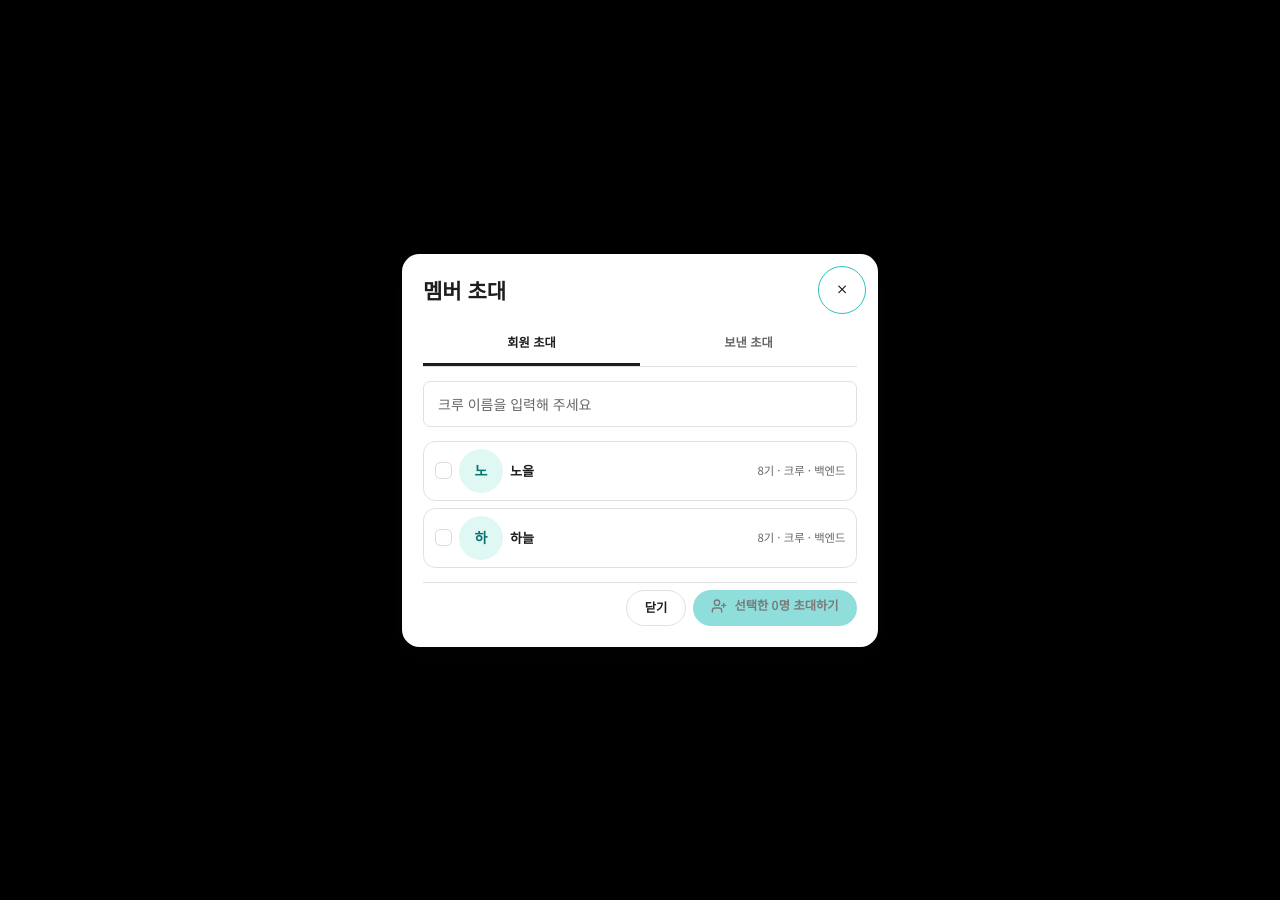
Scenario: 검색 버튼 없이 입력·Enter로 검색하고 선택한 회원을 유지한다
This screenshot has width=1280, height=900.
Step 1. Click the checkbox labelled "노 노을 8기 · 크루 · 백엔드" → (481, 470), box [434,448,846,492]
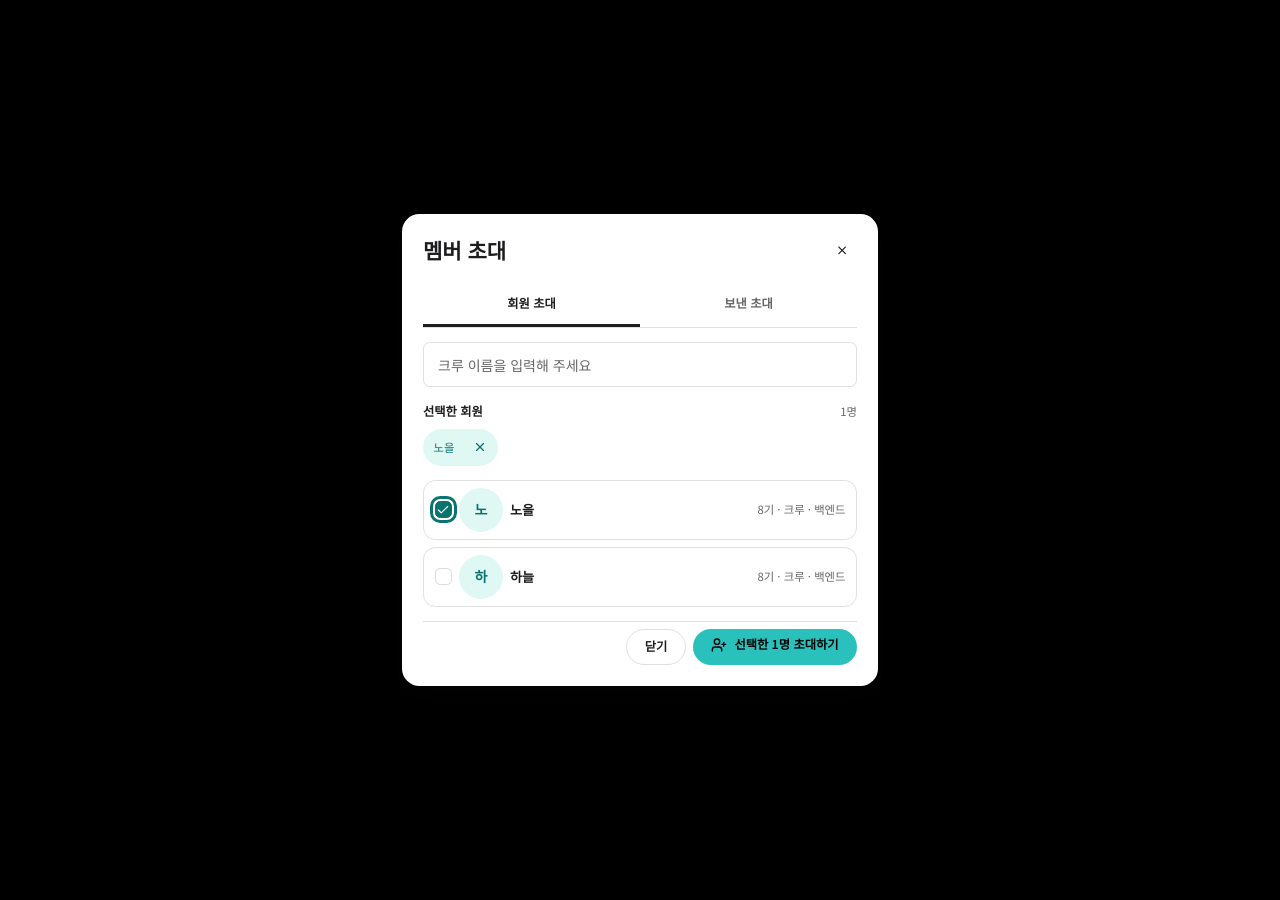
Step 2. Type "하늘" into the field named "회원 이름 검색" → (640, 365), box [423,342,857,387]
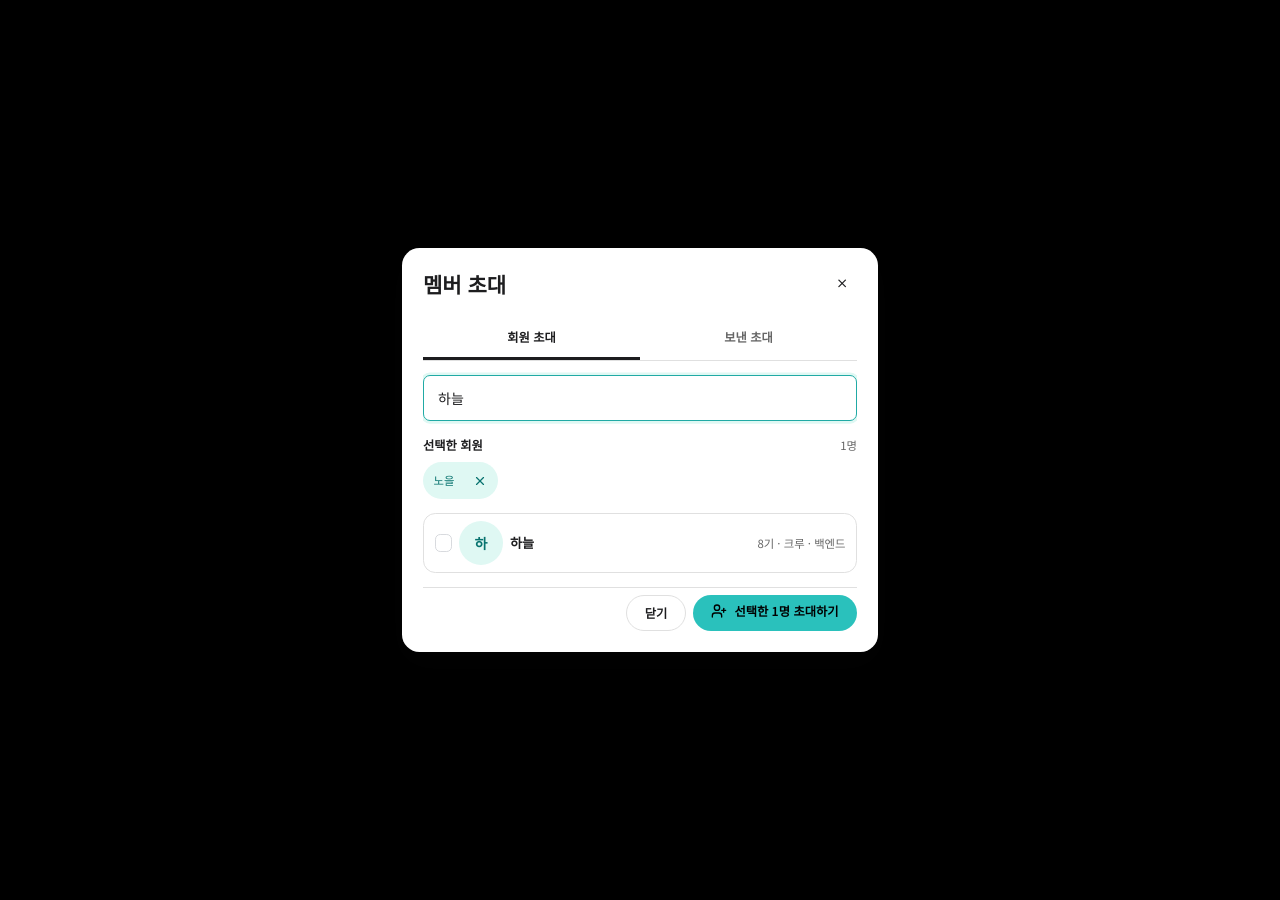
Expected: the checkbox labelled "하 하늘 8기 · 크루 · 백엔드" is shown, [434,521,846,565]
Step 3. Press Enter
Expected: the dialog is shown, [402,248,878,652]
Step 4. Clear the field named "회원 이름 검색" → (640, 398), box [423,375,857,421]
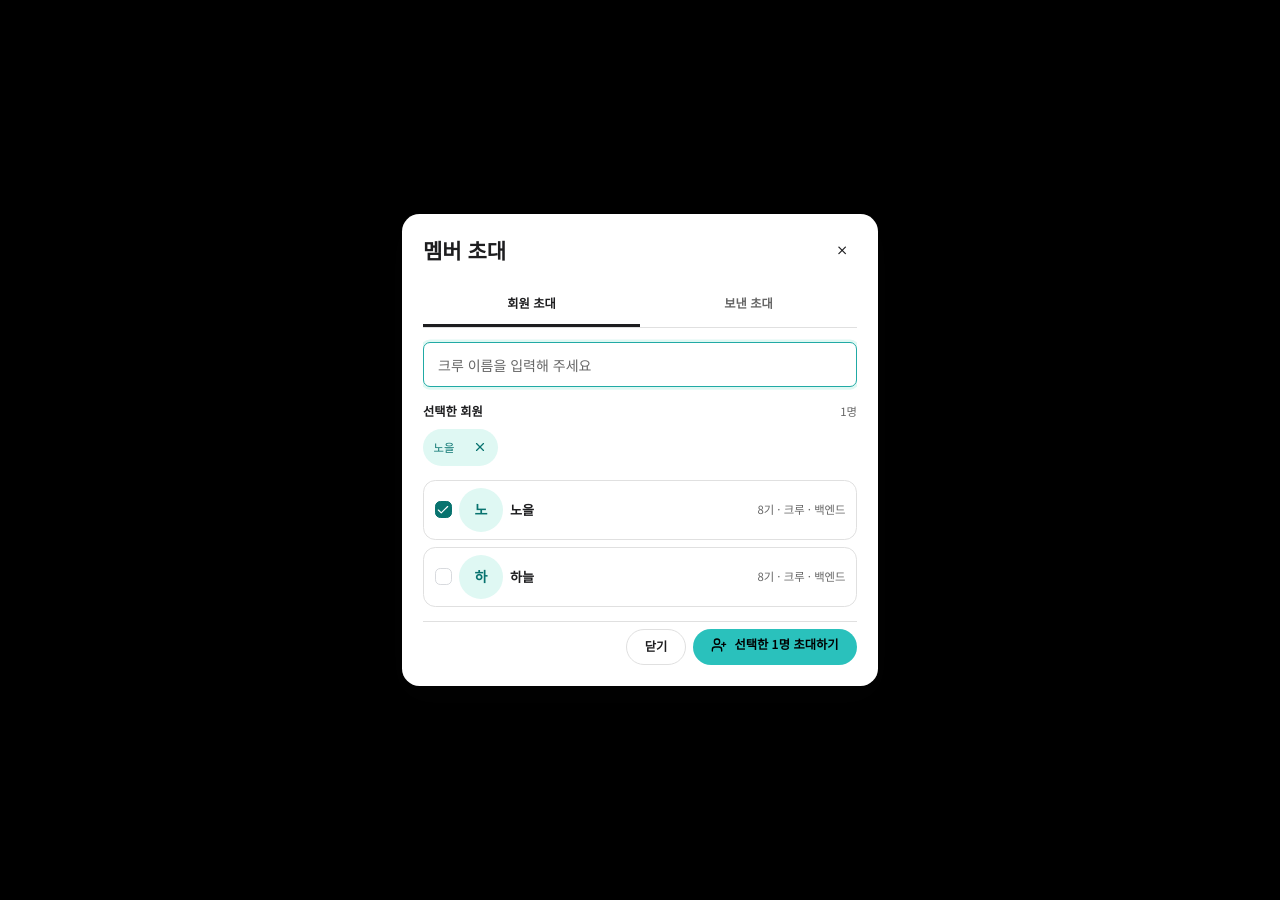
Expected: the checkbox labelled "노 노을 8기 · 크루 · 백엔드" is checked, [434,488,846,532]
